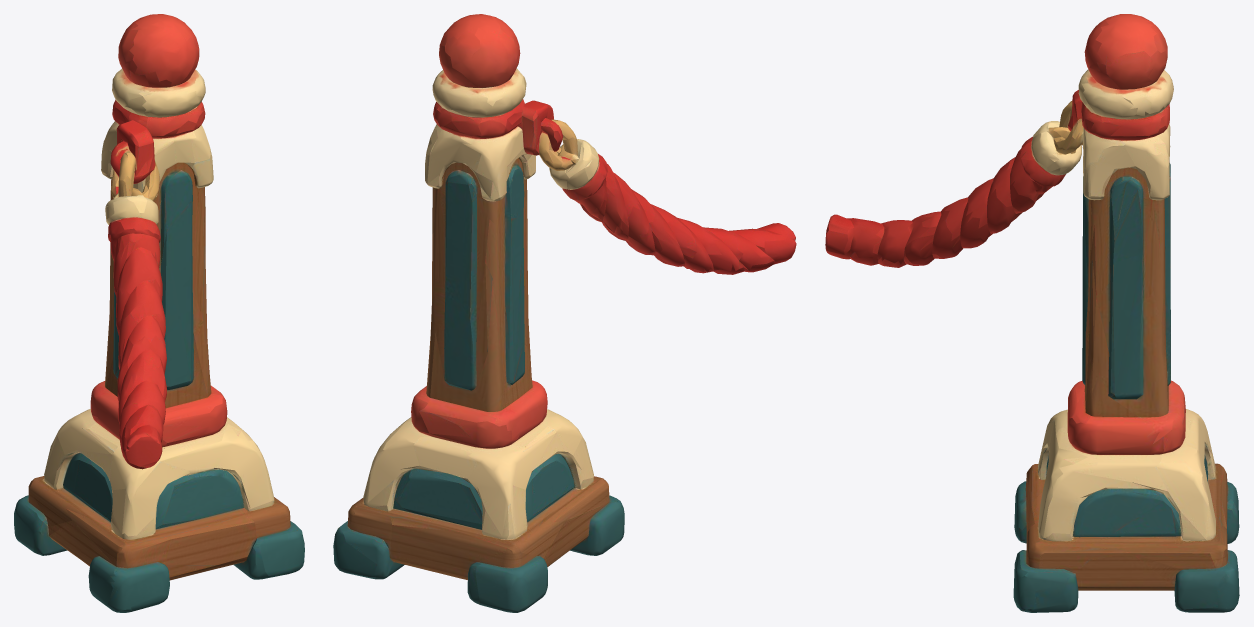
The model's file is queueRope.glb.
3 renders of one model, left to right at view 1: azimuth 30°, elevation 25°; view 2: azimuth 150°, elevation 25°; view 3: azimuth 270°, elevation 25°, orthographic. The views are drawn at different scales.
Visible parts, largest first — view 1: Mesh_0; view 2: Mesh_0; view 3: Mesh_0.
Part boxes in pixels (x1=…): Mesh_0: x1=14, y1=14, x2=304, y2=612; Mesh_0: x1=333, y1=14, x2=796, y2=612; Mesh_0: x1=825, y1=14, x2=1239, y2=612.
Size of the model in its own units: 0.5063 by 0.9531 by 0.65.
Materials: 1 (1 with a texture image).
